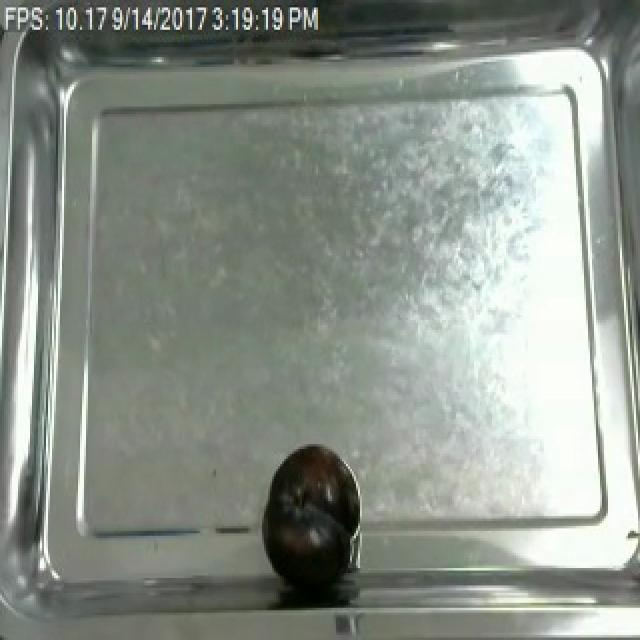Fruit: (260, 439, 358, 566)
